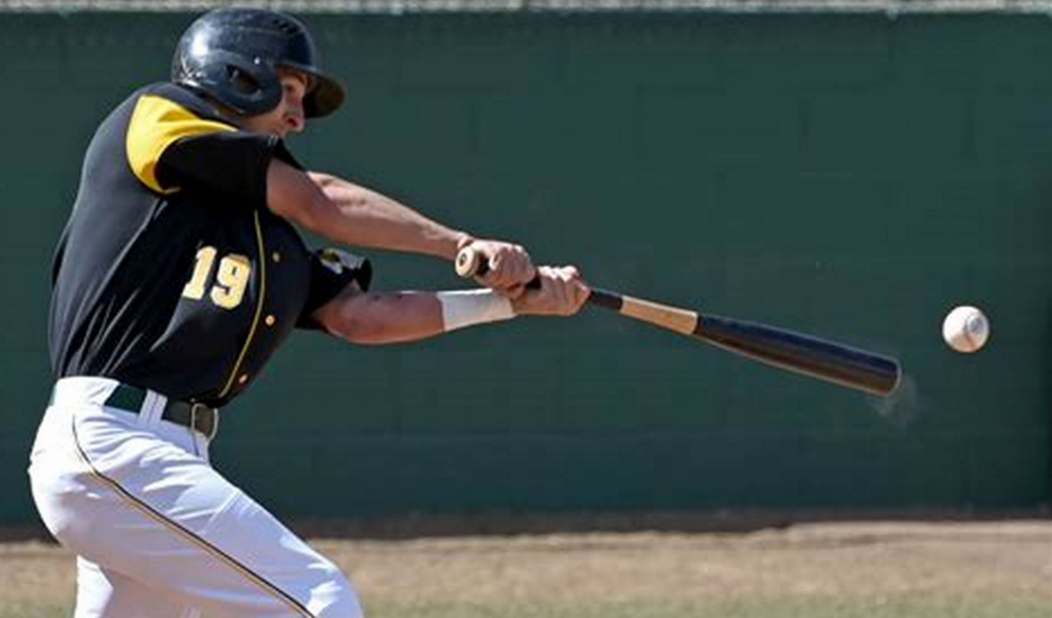ball: (939, 302, 992, 353)
